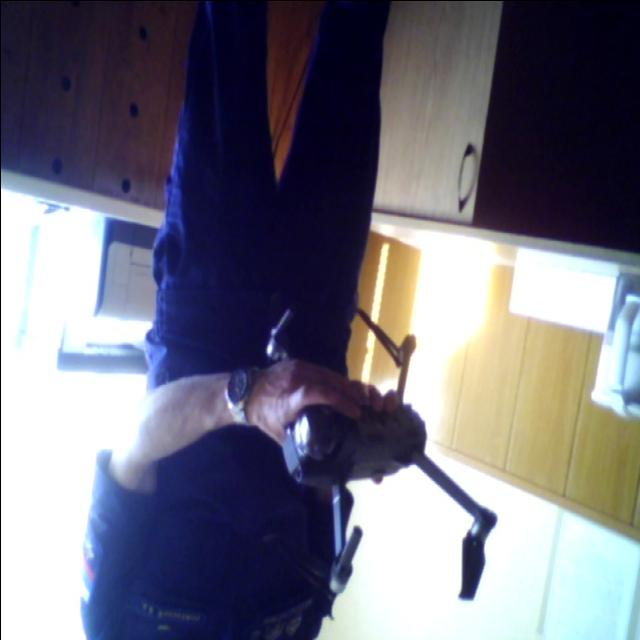drone: (223, 304, 500, 608)
